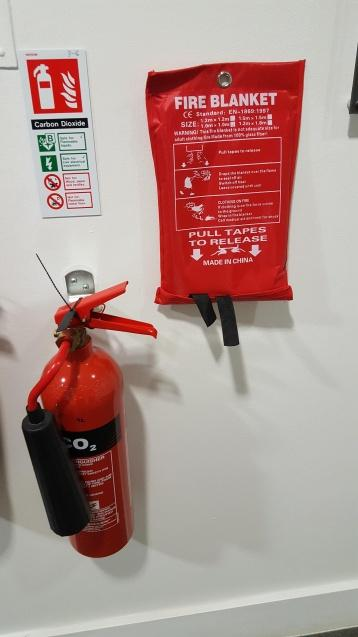APAR: (21, 280, 158, 559)
